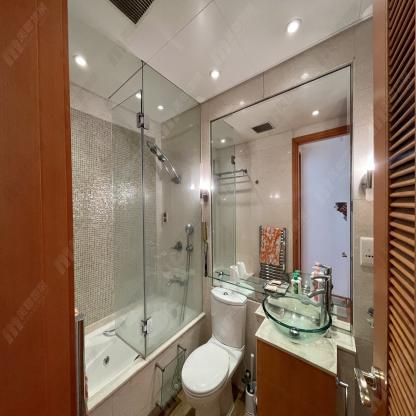Bathtub: (82, 291, 204, 416)
Toilet: (180, 285, 248, 416)
Toilet Sink: (261, 293, 334, 341)
Water Cubicle: (67, 18, 203, 403)
